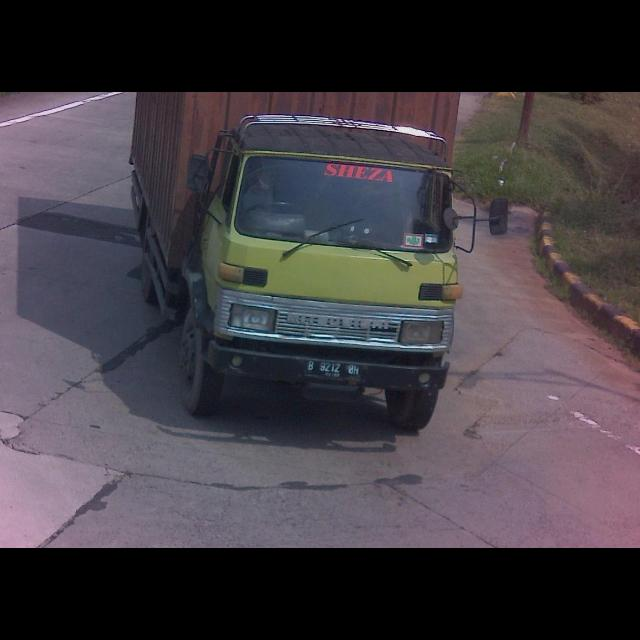plate: (306, 358, 362, 379)
